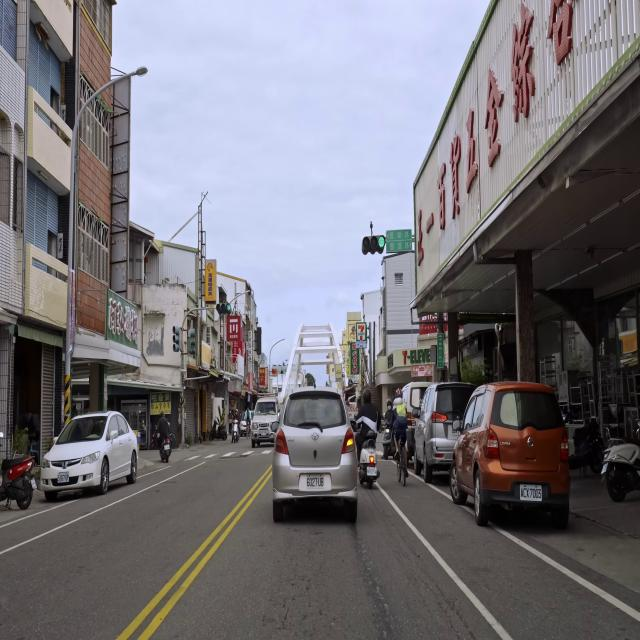green light: (361, 236, 385, 250), (216, 304, 232, 314)
